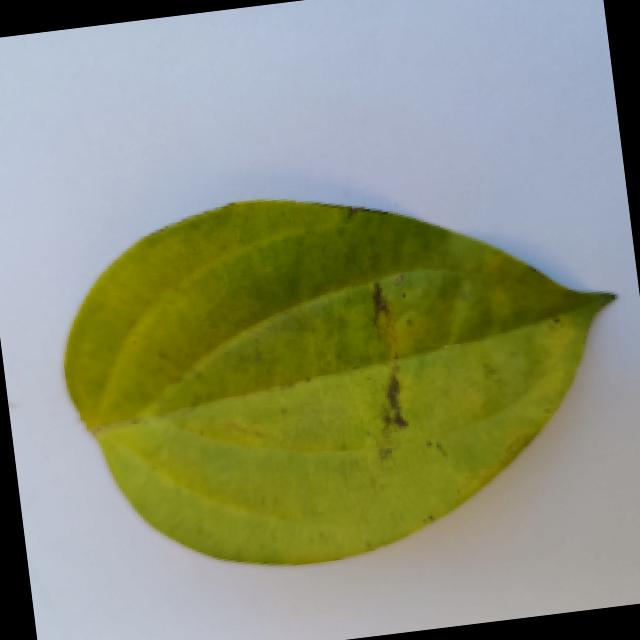slow-decline: (31, 150, 640, 601)
